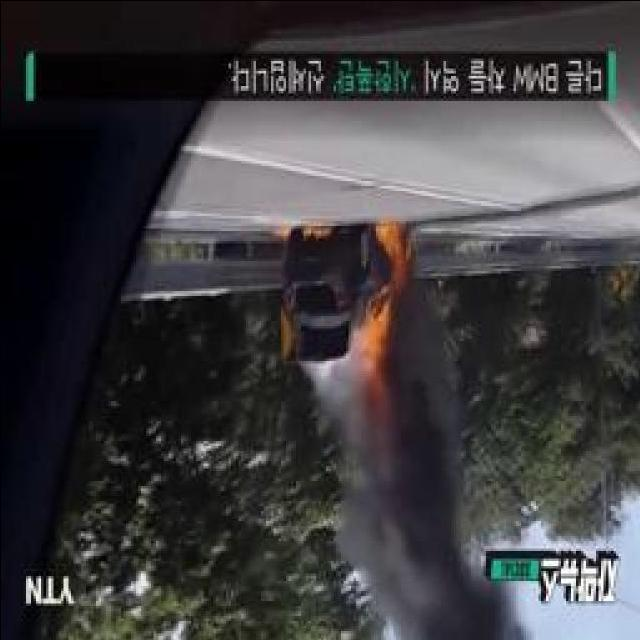Fire: (358, 223, 408, 338)
